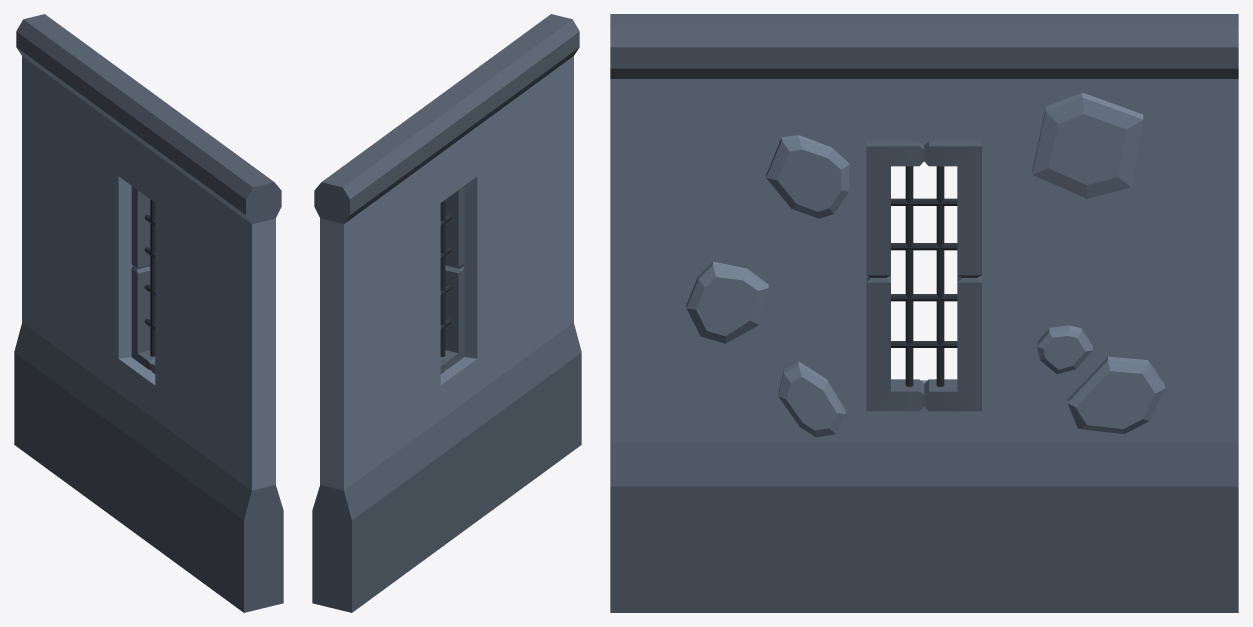
The model's file is WallWindowed01.fbx.
3 renders of one model, left to right at view 1: azimuth 30°, elevation 25°; view 2: azimuth 150°, elevation 25°; view 3: azimuth 270°, elevation 25°, orthographic. The views are drawn at different scales.
Parts seen in each view (by area): view 1: Cube.001; view 2: Cube.001; view 3: Cube.001.
Part boxes in pixels (left/top/right/bottom): Cube.001: left=14, top=14, right=283, bottom=612; Cube.001: left=312, top=14, right=581, bottom=612; Cube.001: left=610, top=14, right=1238, bottom=612.
Size of the model in its own units: 83.38 by 813 by 800.
1 material, 1 textured.
